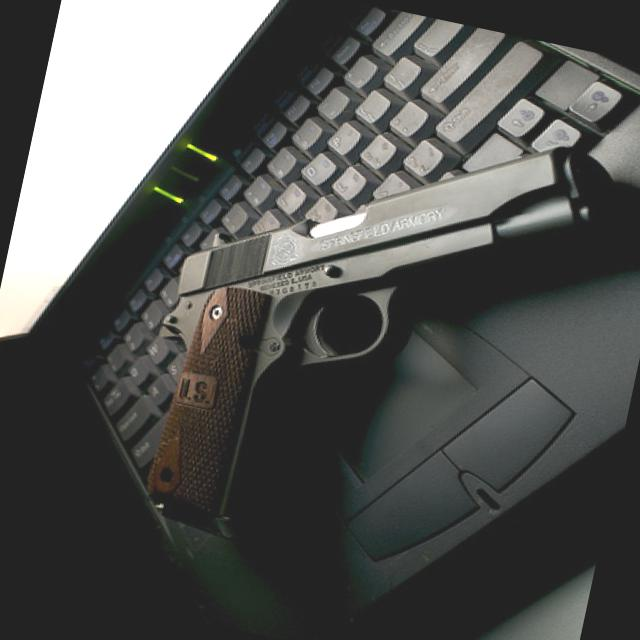handgun: (130, 75, 622, 598)
